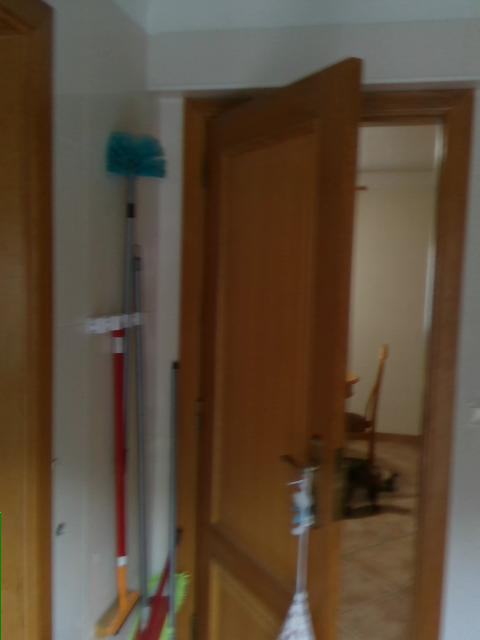semi_door: (176, 49, 475, 639)
